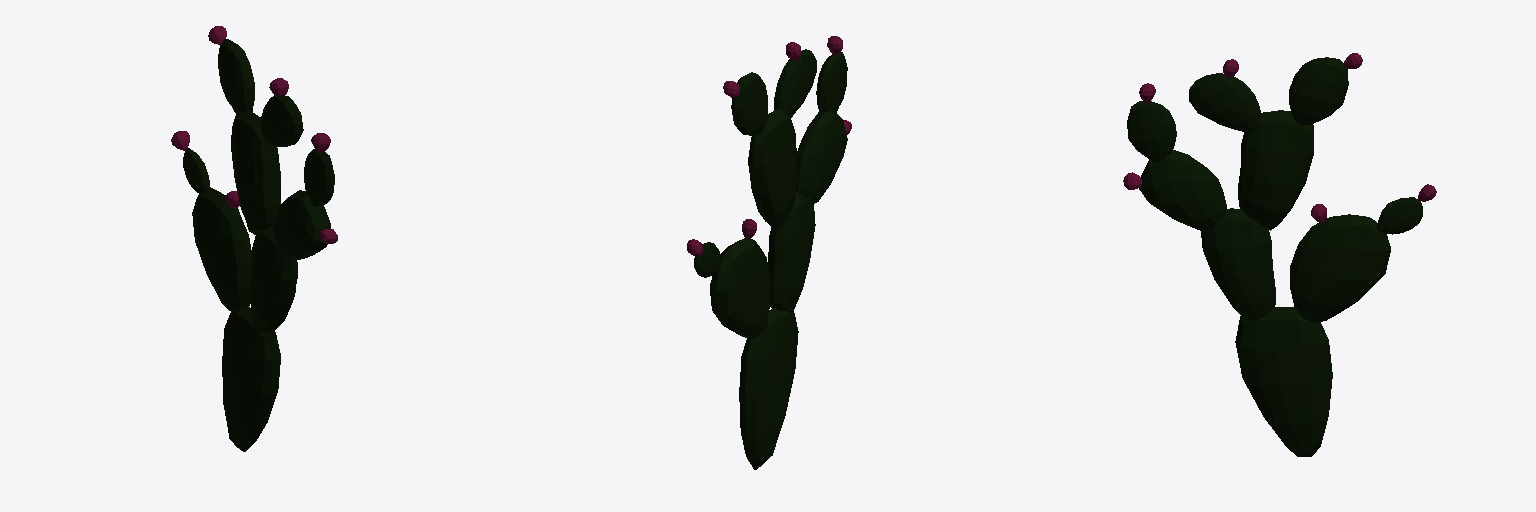
The model's file is CactusFlowers_4.obj.
3 renders of one model, left to right at view 1: azimuth 30°, elevation 25°; view 2: azimuth 150°, elevation 25°; view 3: azimuth 270°, elevation 25°, orthographic.
Visible parts, largest first — view 1: CactusFlowers_4_Cube.008; view 2: CactusFlowers_4_Cube.008; view 3: CactusFlowers_4_Cube.008.
Part boxes in pixels (x1,y1,x2,y2): CactusFlowers_4_Cube.008: (171, 26, 337, 451); CactusFlowers_4_Cube.008: (687, 36, 851, 469); CactusFlowers_4_Cube.008: (1123, 53, 1436, 456).
Size of the model in its own units: 0.11 by 1.38 by 0.972.